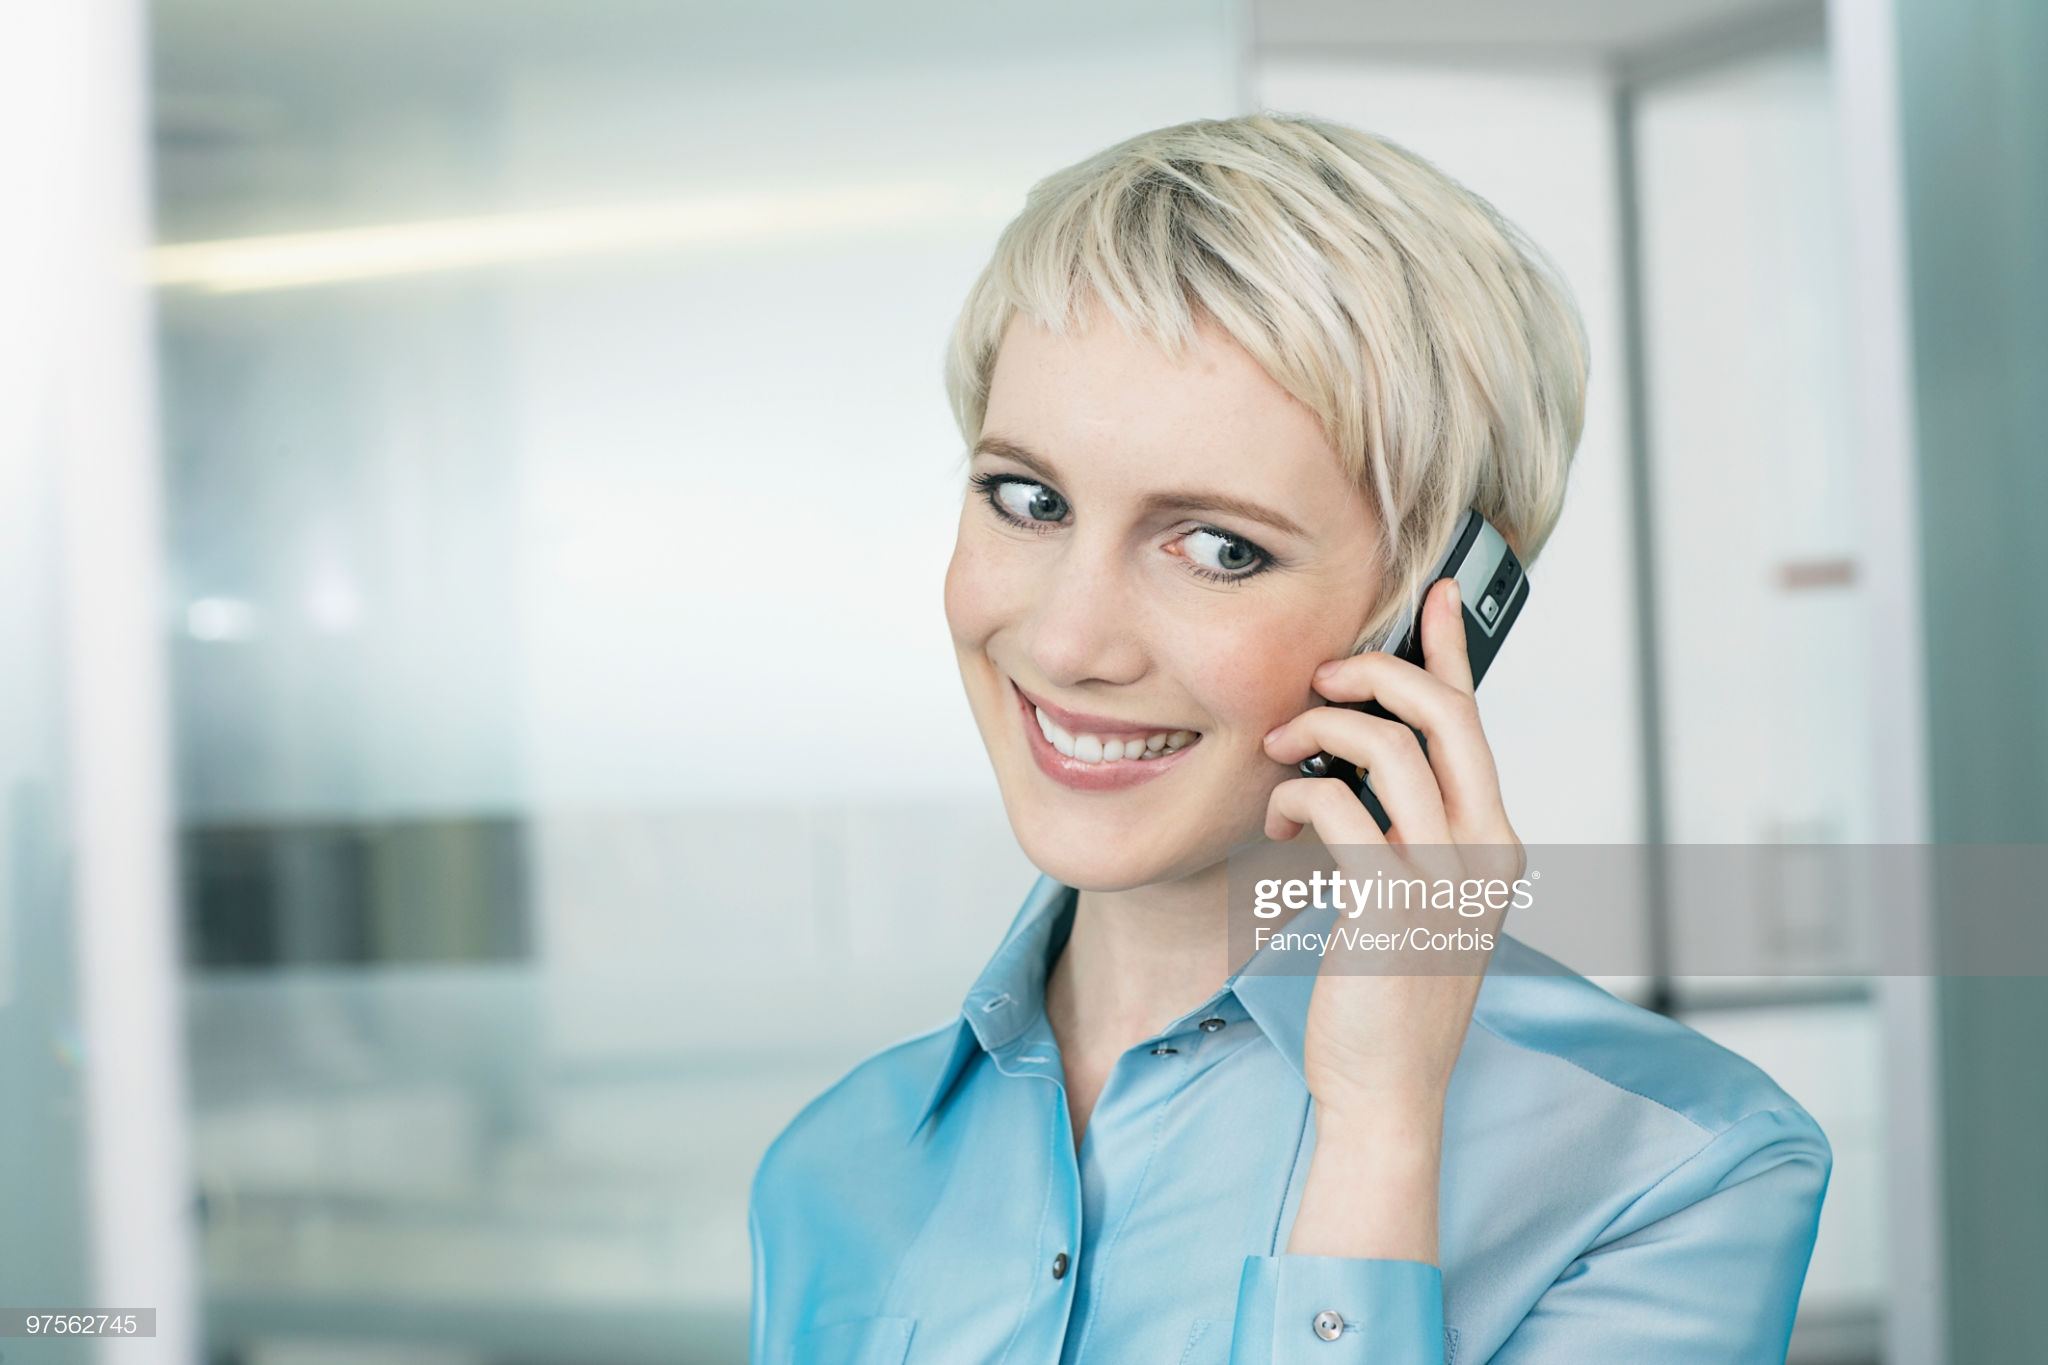phone: (1278, 501, 1524, 832)
talk: (939, 422, 1533, 1076)
